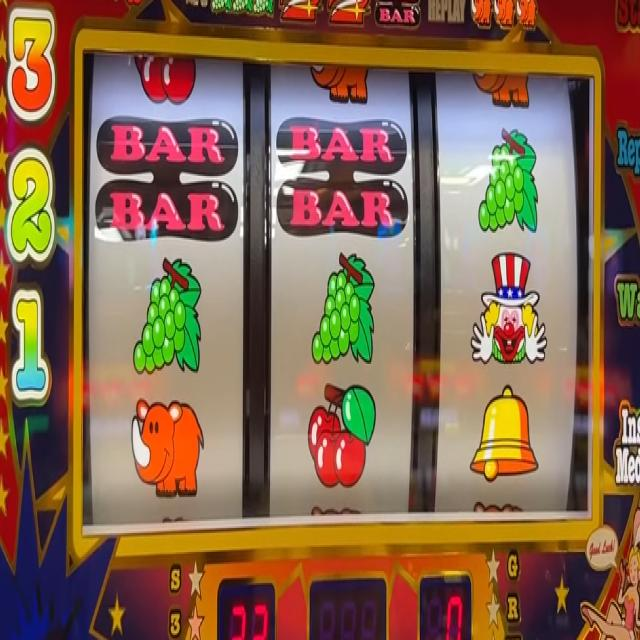bar: (96, 115, 238, 238), (275, 110, 410, 230), (376, 0, 423, 30)
bell: (470, 386, 540, 484)
cherry: (305, 379, 375, 488), (132, 50, 197, 104)
clown: (470, 249, 548, 368)
display: (82, 48, 596, 540)
elephant: (130, 398, 206, 500), (307, 60, 369, 106), (471, 70, 532, 107), (494, 0, 514, 32), (516, 0, 537, 30), (469, 0, 490, 28)
grape: (131, 251, 202, 377), (310, 251, 378, 365), (478, 128, 540, 237)
z: (324, 0, 368, 28), (278, 0, 318, 22)
